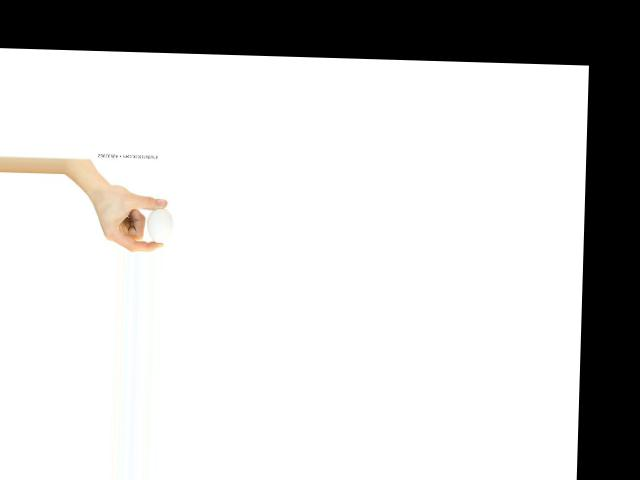egg: (146, 207, 172, 243)
